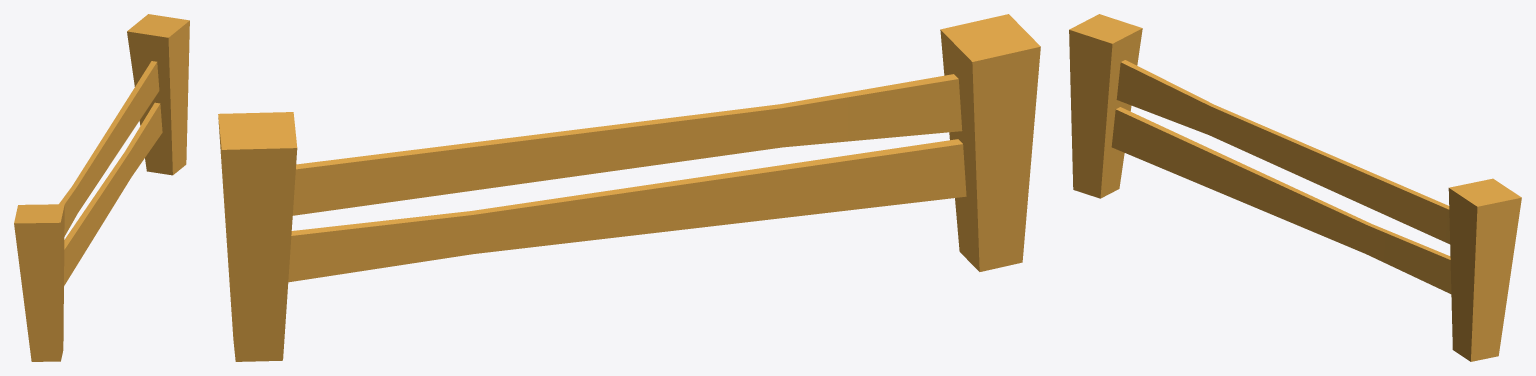
Rendered from Zabor.fbx.
3 views of the same model, side by side, from view 1: azimuth 30°, elevation 25°; view 2: azimuth 150°, elevation 25°; view 3: azimuth 270°, elevation 25° (orthographic). The views are drawn at different scales.
Parts seen in each view (by area): view 1: Zabor; view 2: Zabor; view 3: Zabor.
Boxes of the visible parts, x1,y1,x2,y2 form: Zabor: [14, 14, 189, 361]; Zabor: [218, 14, 1040, 361]; Zabor: [1069, 14, 1521, 361].
Bounding box in the file's own units: 1.16 × 0.4747 × 1.17.
